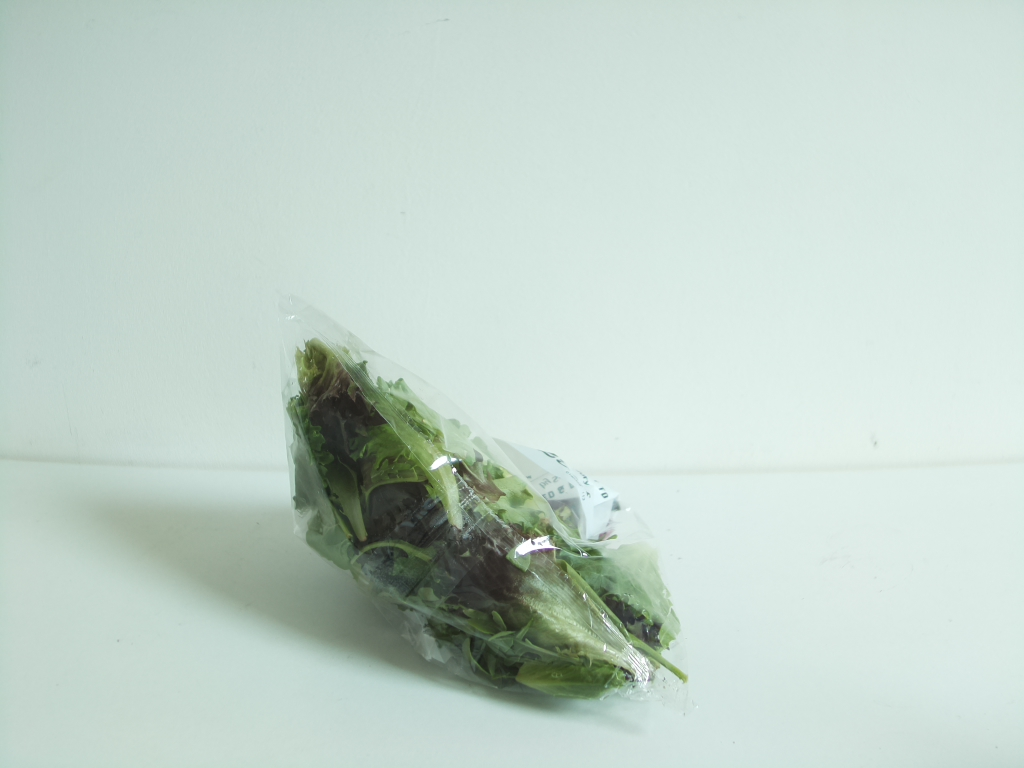salad: (289, 321, 684, 708)
